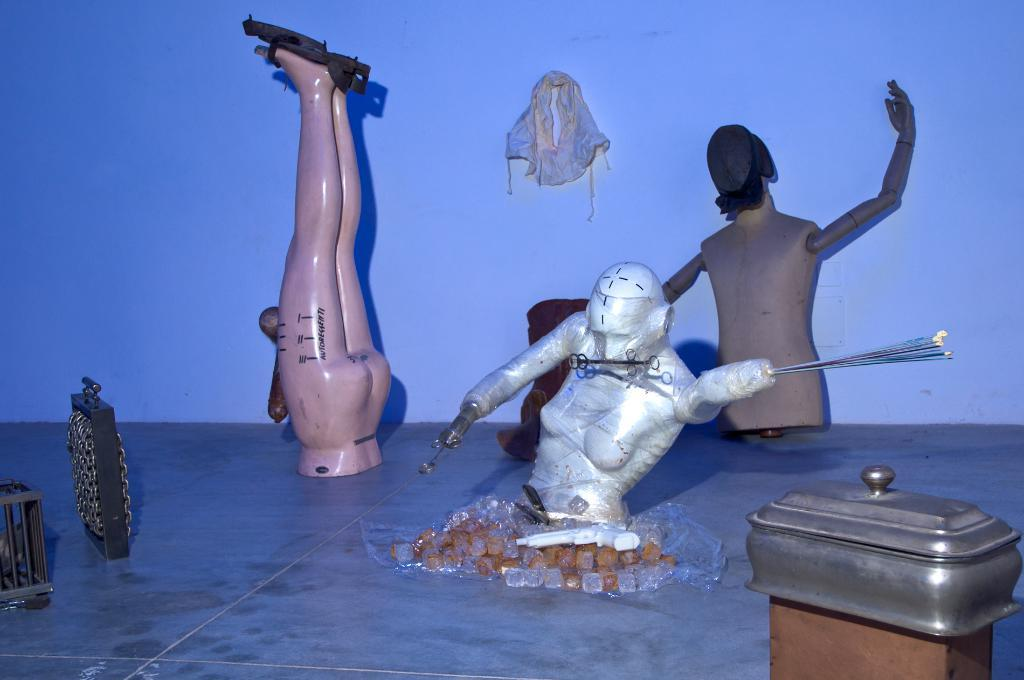Rifle: (243, 14, 369, 98)
